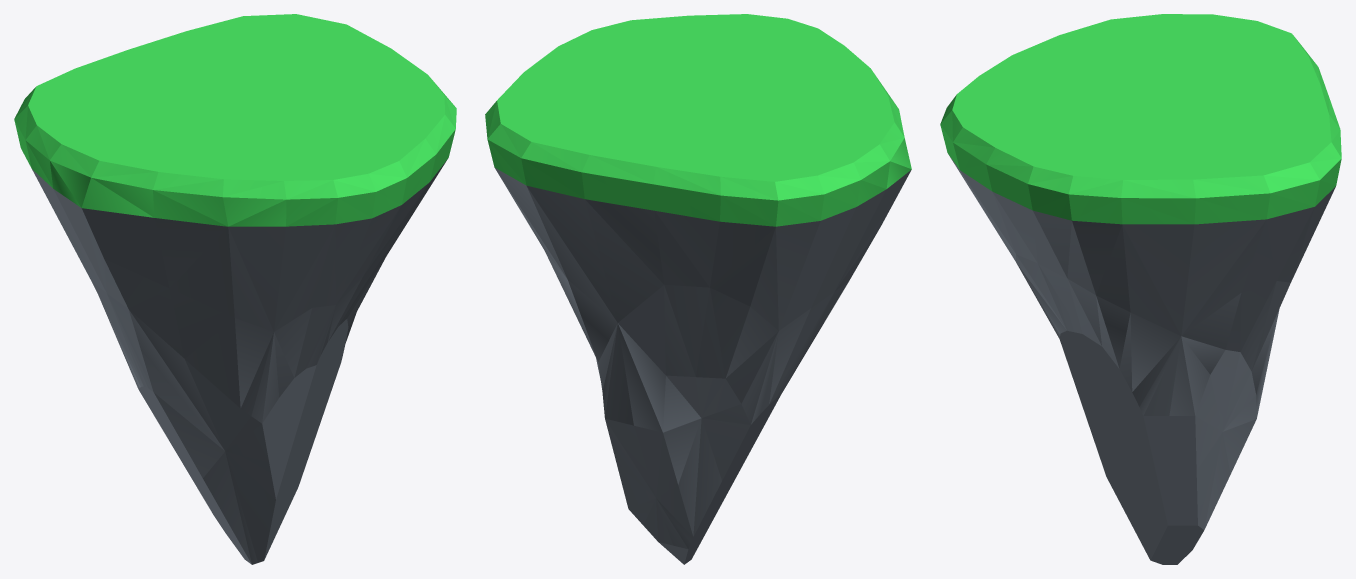
File: testmodelsisland_Cube__1_.fbx
3 renders of one model, left to right at view 1: azimuth 30°, elevation 25°; view 2: azimuth 150°, elevation 25°; view 3: azimuth 270°, elevation 25°, orthographic.
Visible parts, largest first — view 1: island_Cube__1_; view 2: island_Cube__1_; view 3: island_Cube__1_.
Part boxes in pixels (x1=…): island_Cube__1_: x1=14, y1=14, x2=456, y2=564; island_Cube__1_: x1=485, y1=14, x2=911, y2=564; island_Cube__1_: x1=940, y1=14, x2=1341, y2=564.
Bounding box in the file's own units: 1610 × 1960 × 1552.
